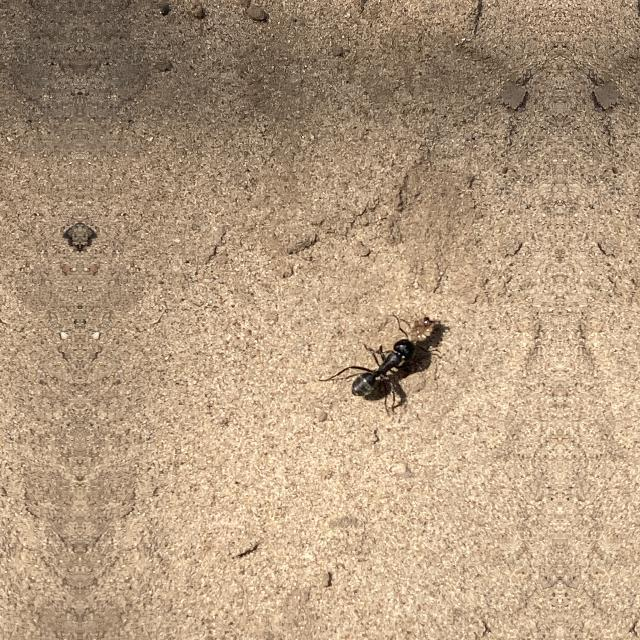Camponotus: (342, 337, 423, 399)
